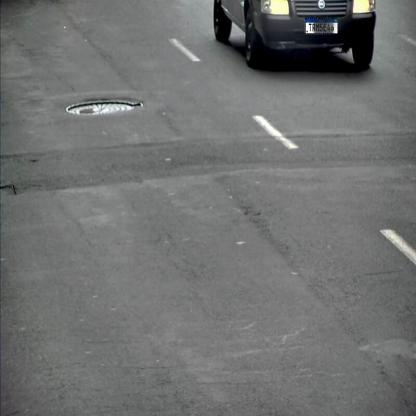PlacaM: (305, 18, 338, 34)
